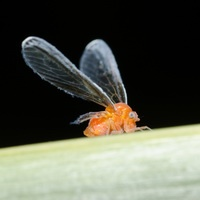insect: (22, 36, 149, 136)
